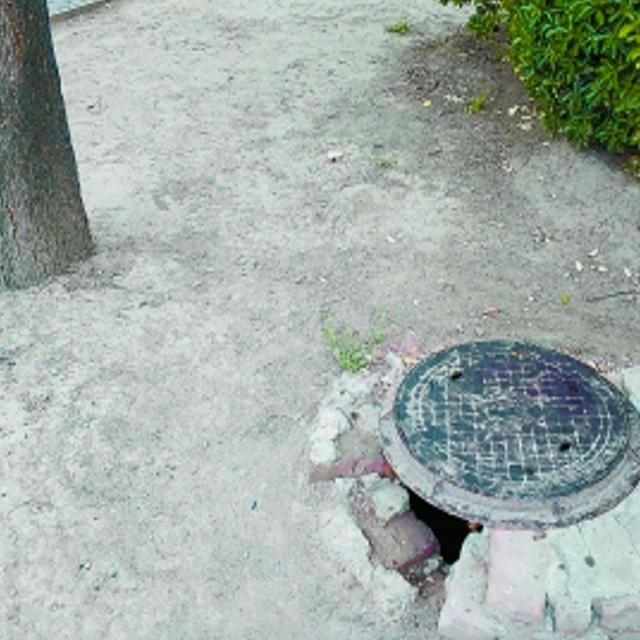circle: (286, 328, 640, 622)
